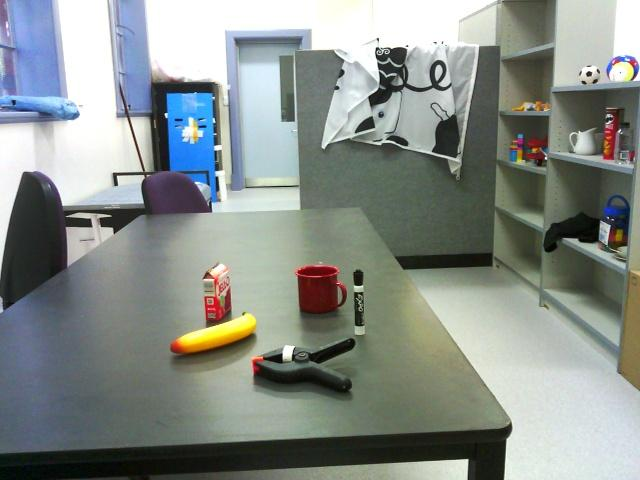009_gelatin_box: (202, 260, 233, 324)
011_banana: (167, 310, 258, 357)
025_mug: (294, 263, 349, 315)
040_large_marker: (350, 267, 368, 338)
051_large_clamp: (250, 336, 358, 394)
